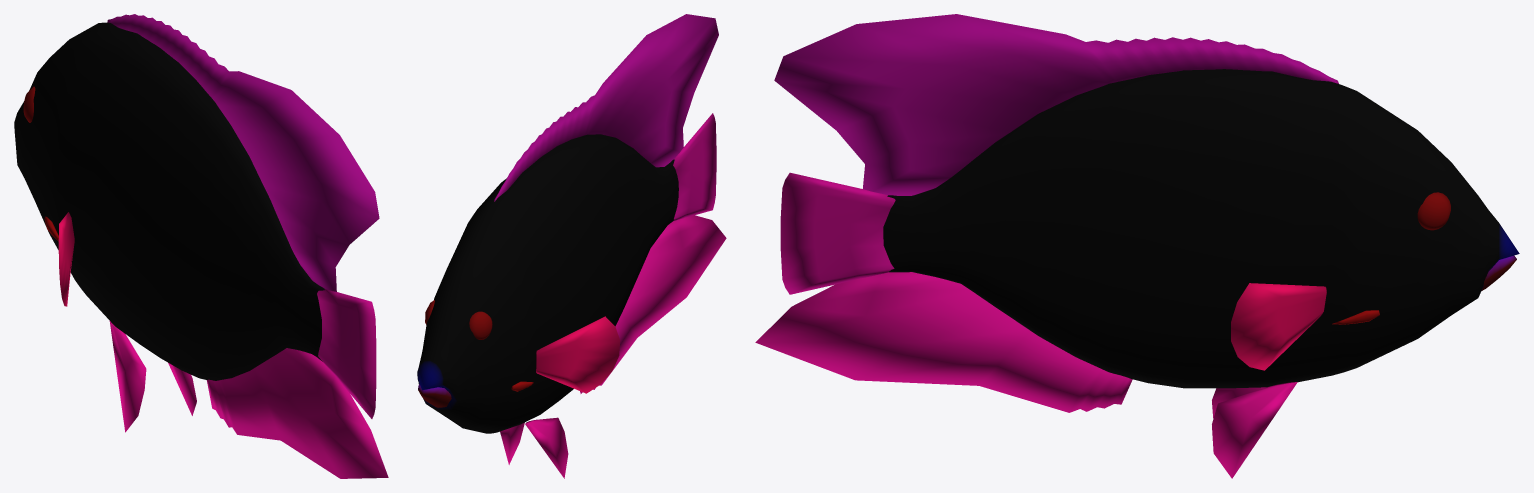
The model's file is angelfish_queen_game.glb.
3 views of the same model, side by side, from view 1: azimuth 30°, elevation 25°; view 2: azimuth 150°, elevation 25°; view 3: azimuth 270°, elevation 25° (orthographic). The views are drawn at different scales.
Visible parts, largest first — view 1: angelfish_queen_game; view 2: angelfish_queen_game; view 3: angelfish_queen_game.
Boxes of the visible parts, box(x1,y1,x2,y2) form: angelfish_queen_game: box(14, 14, 388, 478); angelfish_queen_game: box(417, 14, 726, 478); angelfish_queen_game: box(755, 14, 1519, 478).
Bounding box in the file's own units: 0.1139 × 0.234 × 0.362.
